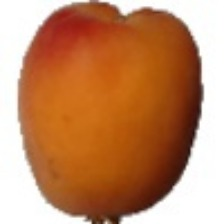apricot: (37, 52, 195, 206)
